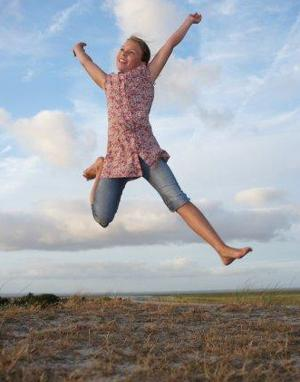person: (74, 11, 251, 270)
